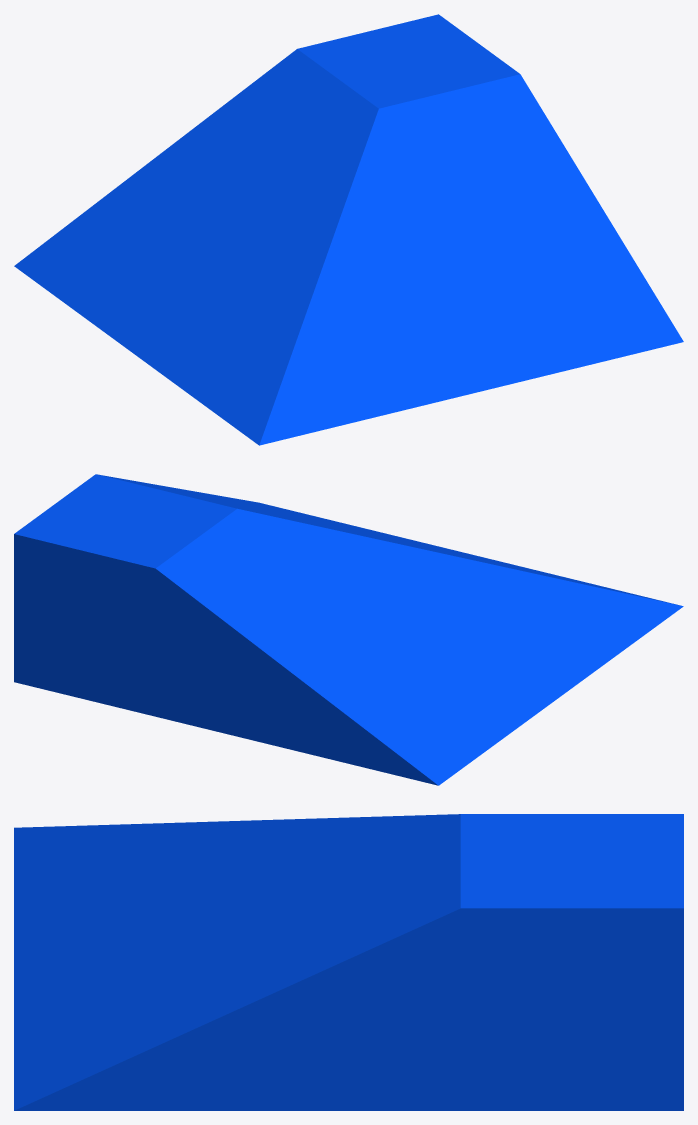
The model's file is COL_Floor-Stairs-Layered-Corner-Convex.FBX.
3 renders of one model, top to bottom at view 1: azimuth 30°, elevation 25°; view 2: azimuth 150°, elevation 25°; view 3: azimuth 270°, elevation 25°, orthographic. The views are drawn at different scales.
Parts seen in each view (by area): view 1: COL_Floor-Stairs-Layered-Corner-Convex; view 2: COL_Floor-Stairs-Layered-Corner-Convex; view 3: COL_Floor-Stairs-Layered-Corner-Convex.
Boxes of the visible parts, x1,y1,x2,y2 form: COL_Floor-Stairs-Layered-Corner-Convex: (14,14,683,445); COL_Floor-Stairs-Layered-Corner-Convex: (14,474,683,785); COL_Floor-Stairs-Layered-Corner-Convex: (14,814,683,1110).
Size of the model in its own units: 30 by 10 by 30.
